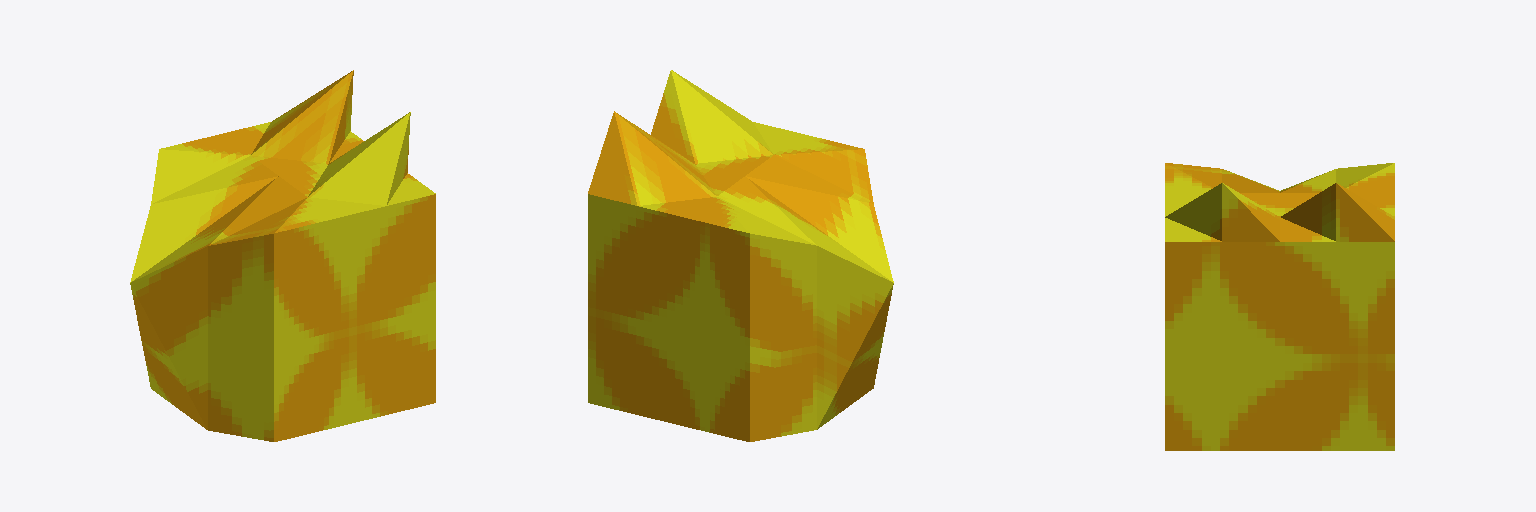
3 renders of one model, left to right at view 1: azimuth 30°, elevation 25°; view 2: azimuth 150°, elevation 25°; view 3: azimuth 270°, elevation 25°, orthographic.
Parts seen in each view (by area): view 1: Cube; view 2: Cube; view 3: Cube.
Boxes of the visible parts, box(x1,y1,x2,y2) form: Cube: box(130, 70, 435, 441); Cube: box(588, 70, 893, 441); Cube: box(1165, 163, 1394, 450).
Bounding box in the file's own units: 2.52 × 2.58 × 2.
Materials: 1 (1 with a texture image).